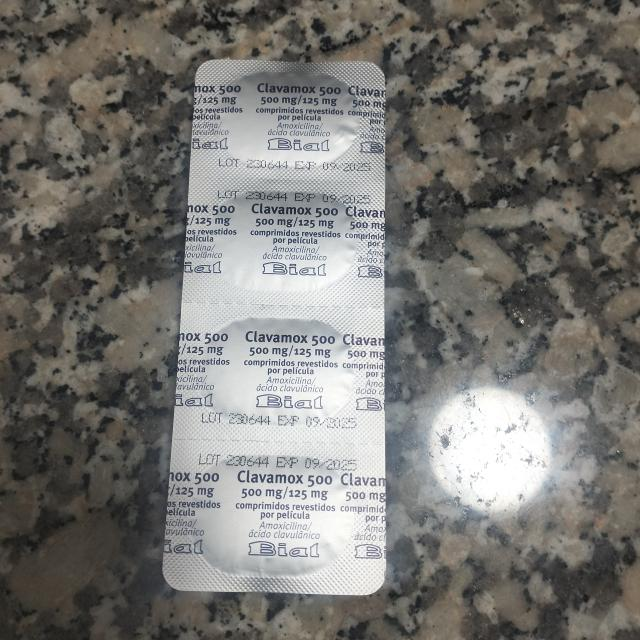blister: (162, 56, 390, 595)
